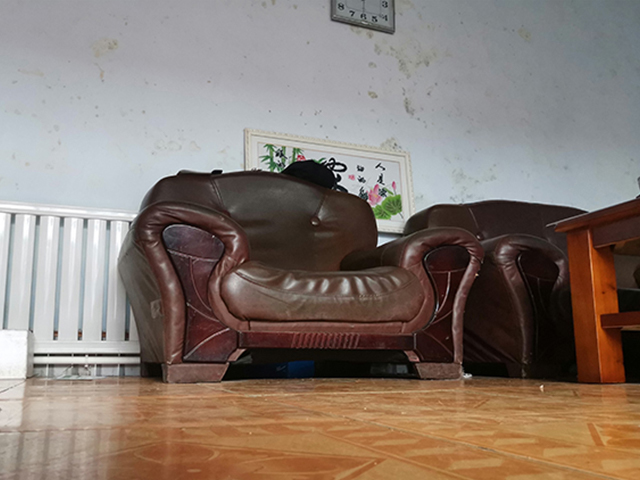sofa: (116, 167, 594, 384)
table: (544, 192, 640, 385)
